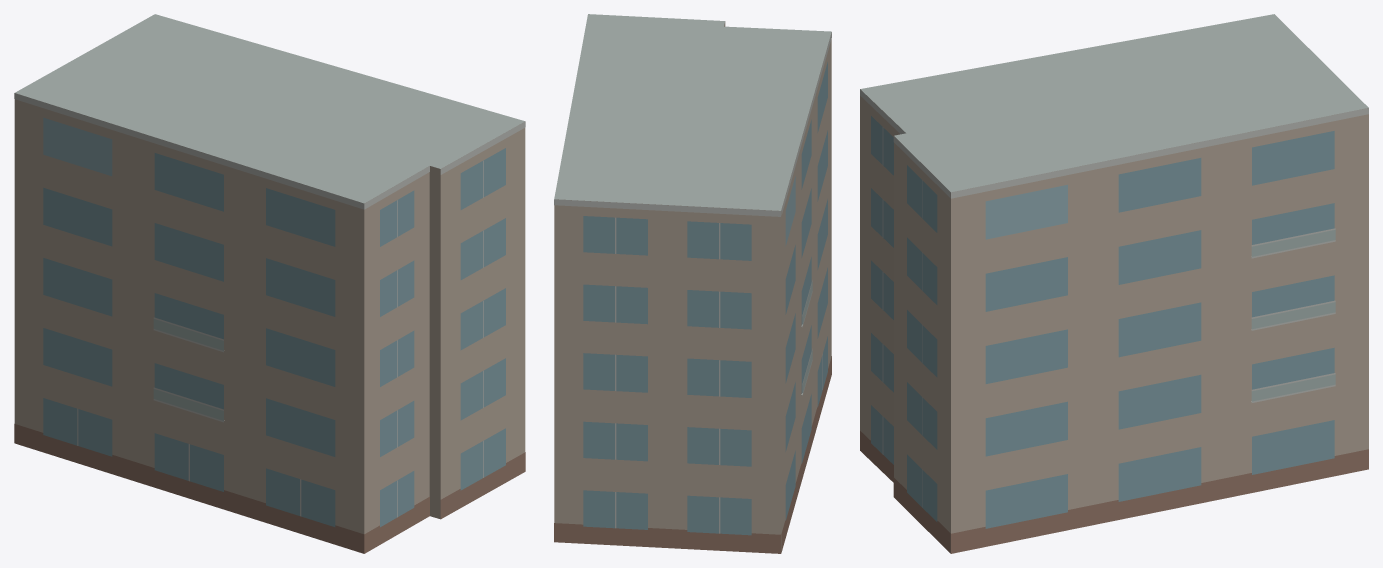
File: survey-upis-32868635.glb
3 views of the same model, side by side, from view 1: azimuth 30°, elevation 25°; view 2: azimuth 150°, elevation 25°; view 3: azimuth 270°, elevation 25° (orthographic). The views are drawn at different scales.
Parts seen in each view (by area): view 1: survey-upis-32868635.tmp; view 2: survey-upis-32868635.tmp; view 3: survey-upis-32868635.tmp.
Part boxes in pixels (x1,y1,x2,y2): survey-upis-32868635.tmp: [14, 14, 525, 553]; survey-upis-32868635.tmp: [554, 14, 831, 553]; survey-upis-32868635.tmp: [860, 14, 1368, 553].
Size of the model in its own units: 14.61 by 13.8 by 17.61.
